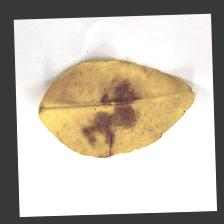canker: (76, 80, 140, 160)
